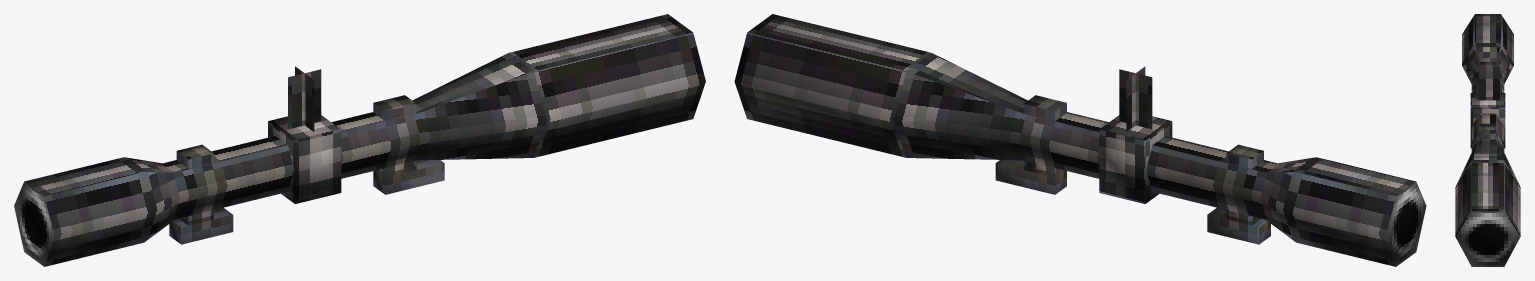
Rendered from mcmillanM87__N003_scope_v0100.glb.
The picture shows the model from 3 angles, left to right: view 1: azimuth 30°, elevation 25°; view 2: azimuth 150°, elevation 25°; view 3: azimuth 270°, elevation 25°; orthographic projection. The views are drawn at different scales.
Parts seen in each view (by area): view 1: N003_scope_v0100; view 2: N003_scope_v0100; view 3: N003_scope_v0100.
Part boxes in pixels (bbox=[...]): N003_scope_v0100: bbox=[14, 14, 705, 266]; N003_scope_v0100: bbox=[734, 14, 1426, 266]; N003_scope_v0100: bbox=[1455, 14, 1520, 266].
Bounding box in the file's own units: 0.415 × 0.0832 × 0.0564.
Materials: 2 (2 with a texture image).
